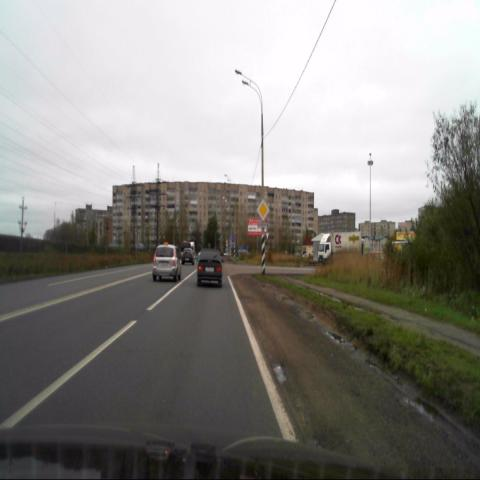2_1: (256, 199, 269, 221)
